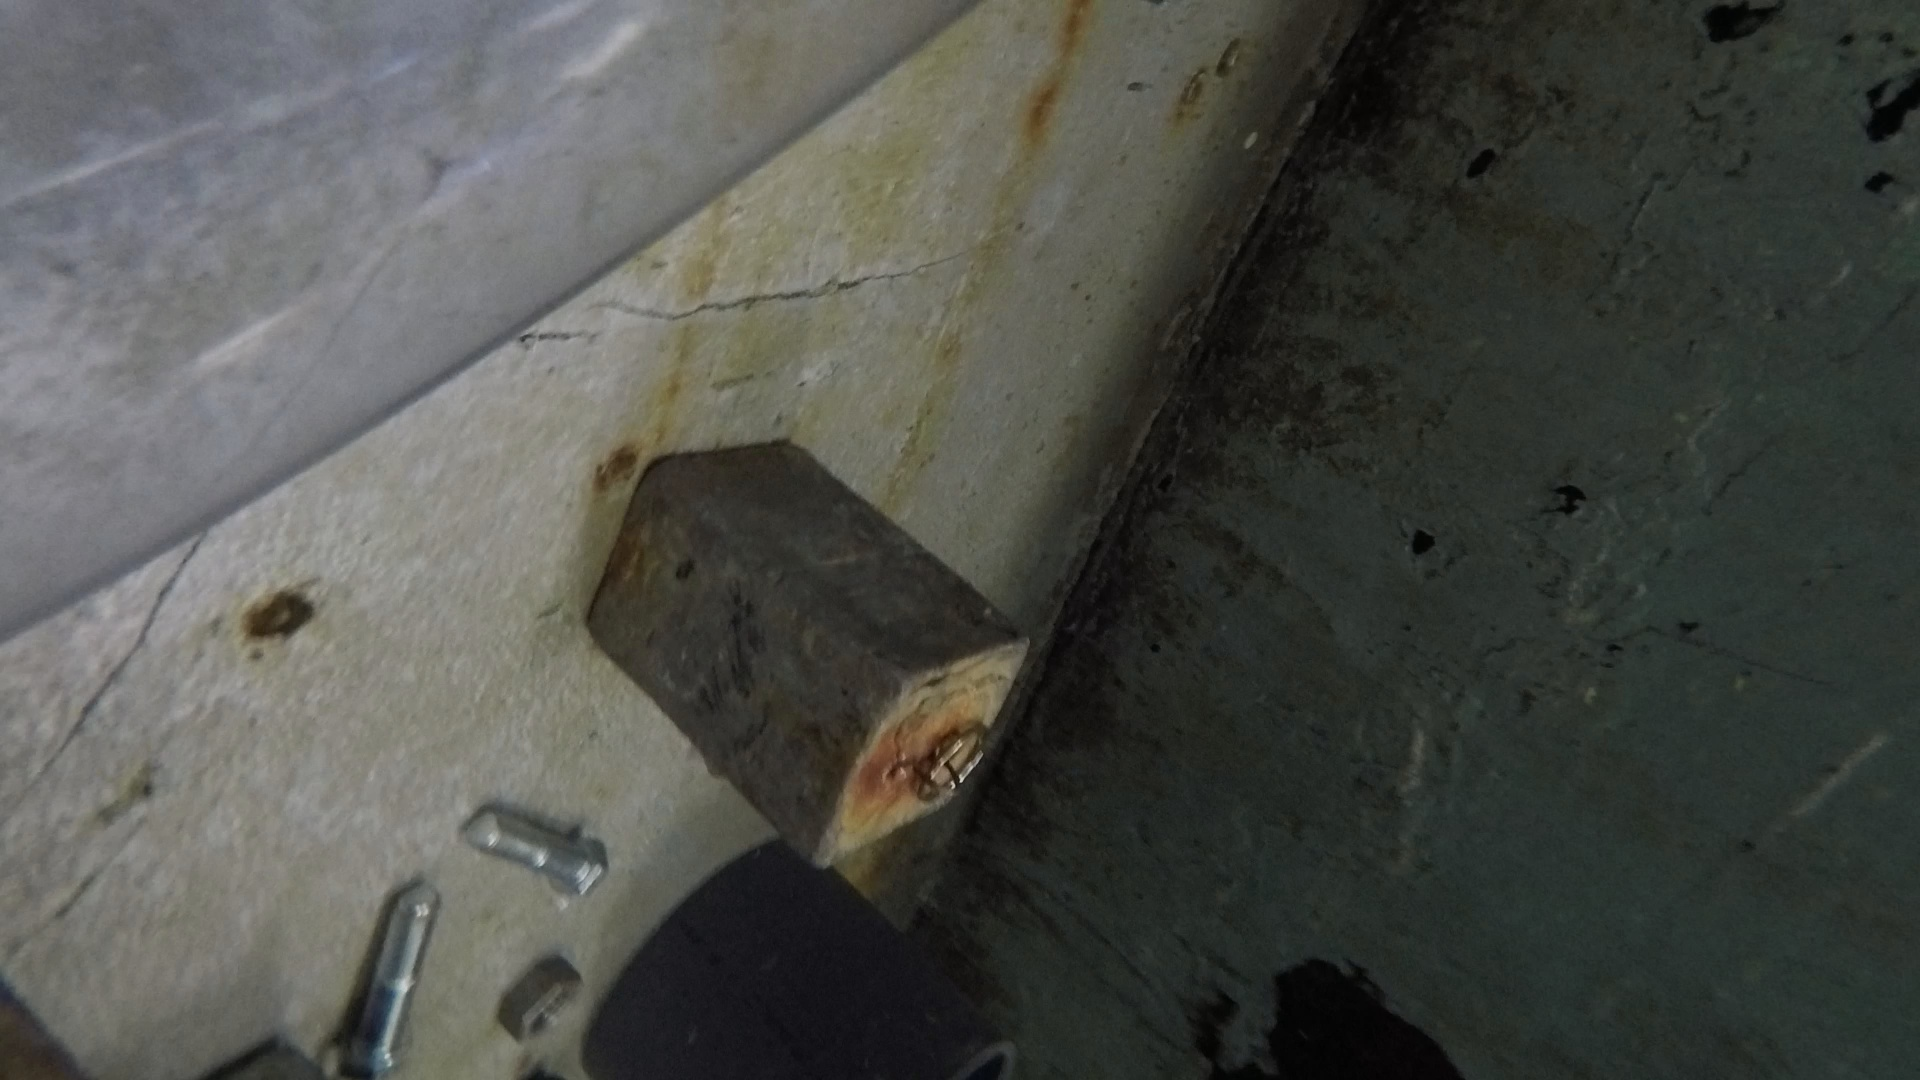bolt: (334, 880, 448, 1080), (459, 807, 611, 901)
led_block: (585, 439, 1030, 868)
nut: (495, 953, 589, 1048)
pipe: (582, 840, 1031, 1075)
